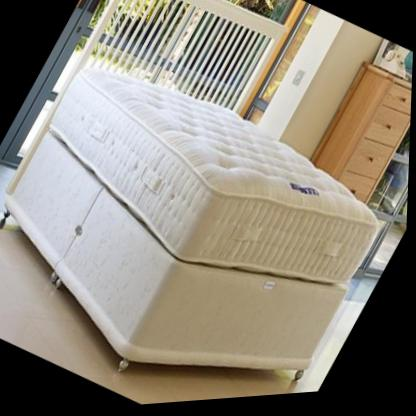Bed: (7, 0, 378, 378)
